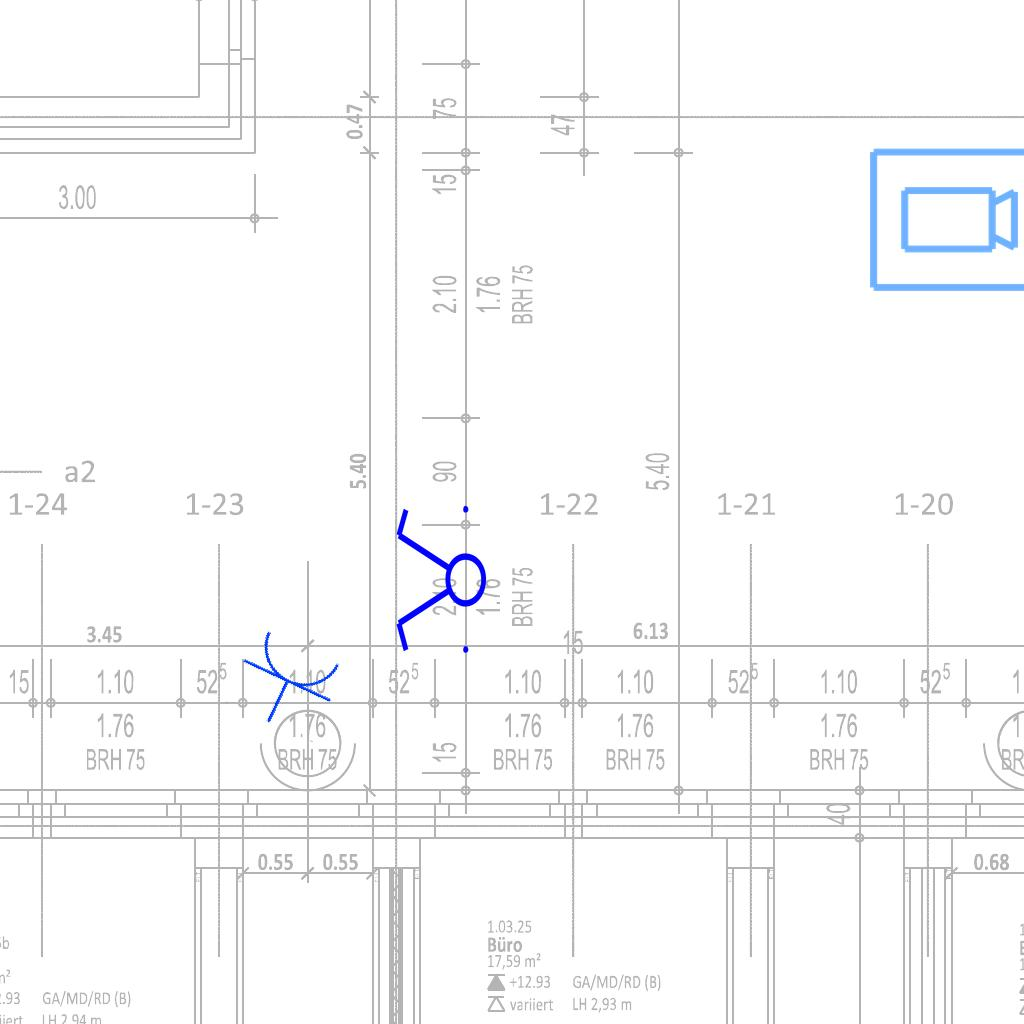KFO_Kamera_mit_Festobjektiv: (865, 144, 1024, 298)
Schukosteckdose_einfach: (223, 622, 351, 745)
Serienschalter: (392, 497, 488, 665)
